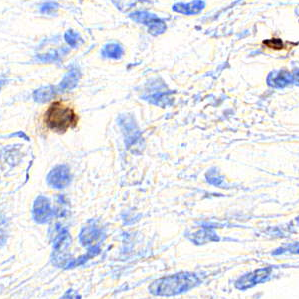Lymphocyte: (46, 102, 78, 136)
